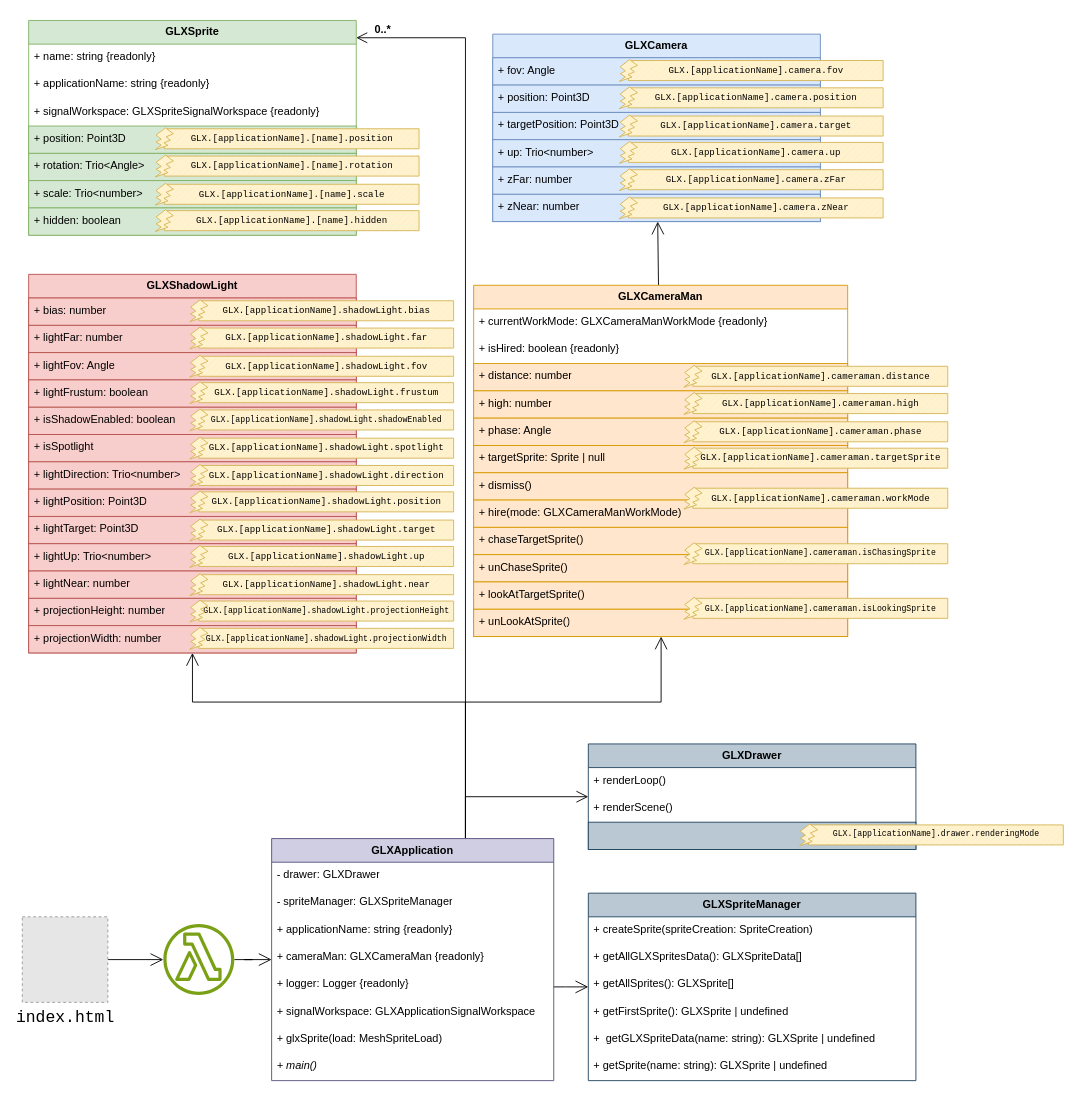
Some shapes in this 1079 by 1098 pixel diagram are drawn without their labels. Grey dashed boxes stand in for pictures. The centre of each missing label's shape, as x and y in pixels:
"+ currentRenderingMode: RenderingMode" belongs at (x=751, y=835).
"start()" belongs at (x=198, y=959).
